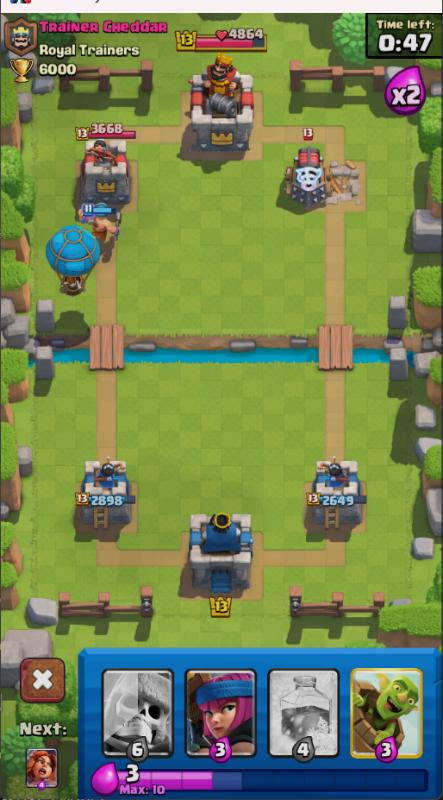zappy: (284, 148, 332, 206)
